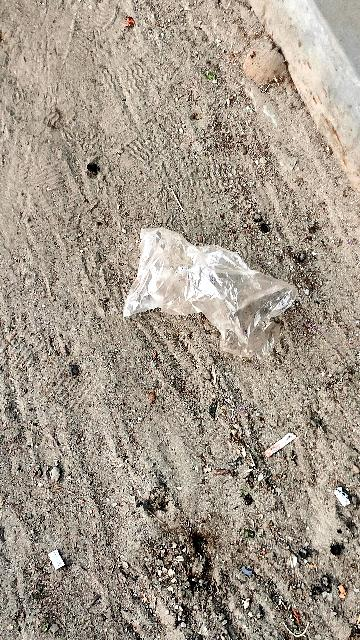polythene: (109, 220, 297, 378)
